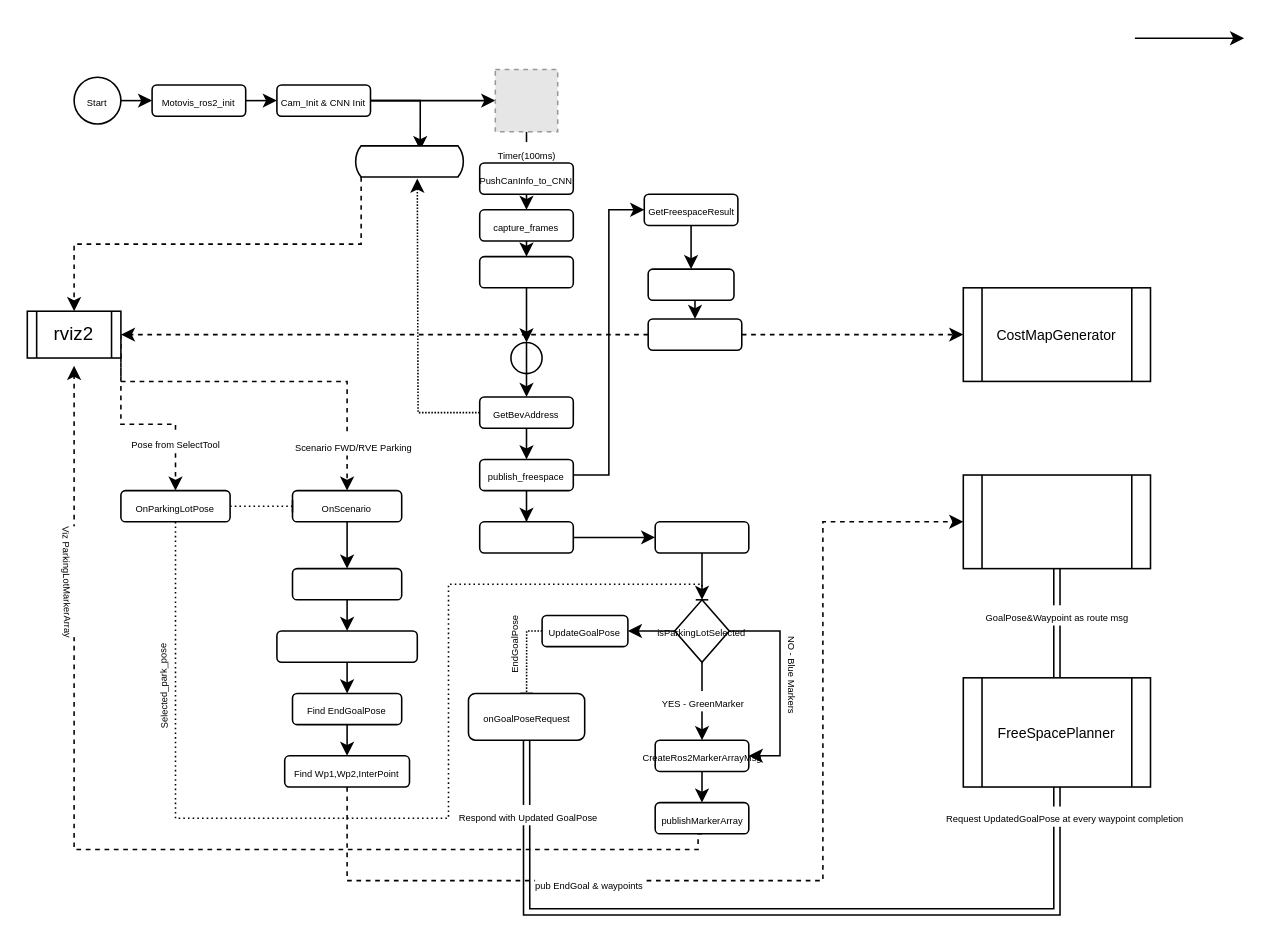
The diagram is 1284 pixels wide and 942 high, and some of its shapes have lost their labels. Grey dashed boxes stand in for pictures. Here are the shapes that lost their labels. From the top down, the centre of each, then its label:
point (408, 160): BEV Display Thread
point (525, 271): Start_CNN
point (690, 284): CreateRos2PolygonMsg
point (694, 333): PublishPolygon
point (525, 357): Wait for cnn to complete
point (525, 536): publish_parking_lot
point (701, 536): GetSlotResult
point (1056, 521): MissionPlanner
point (346, 583): GetSelectedSlotID
point (346, 645): GetSlotSlope & goalAngle
